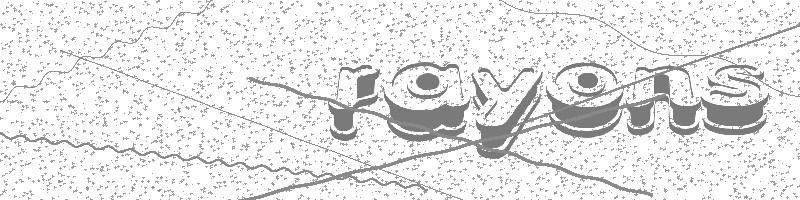a: (382, 57, 474, 142)
n: (624, 60, 703, 139)
o: (544, 60, 625, 140)
r: (327, 60, 382, 144)
s: (701, 59, 773, 137)
y: (470, 61, 543, 160)
